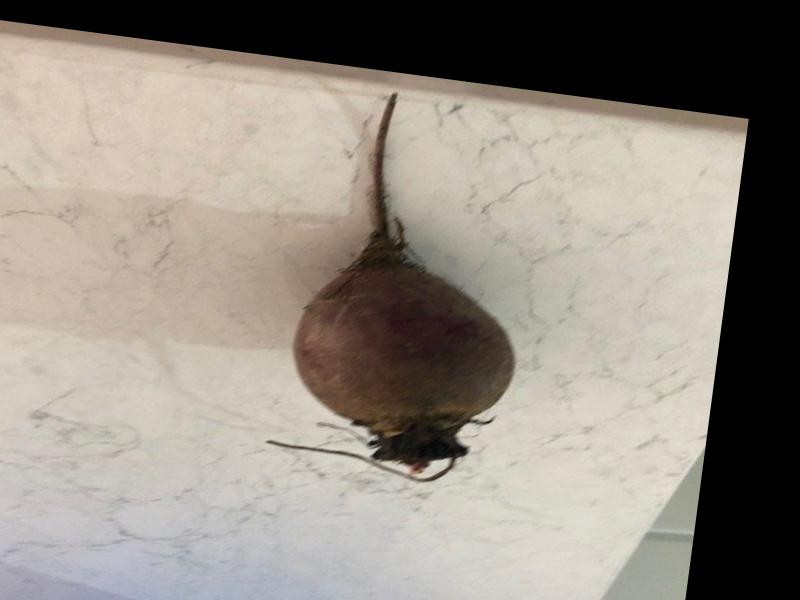Beet: (261, 82, 546, 493)
